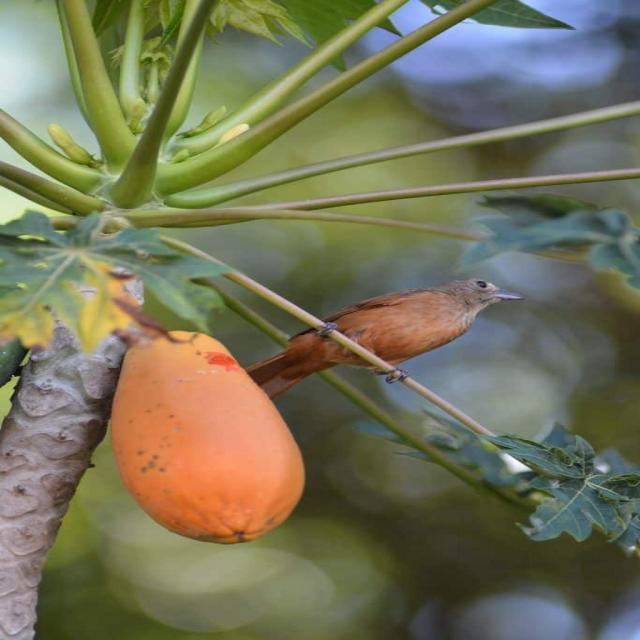Pepaya rippen: (108, 325, 304, 546)
